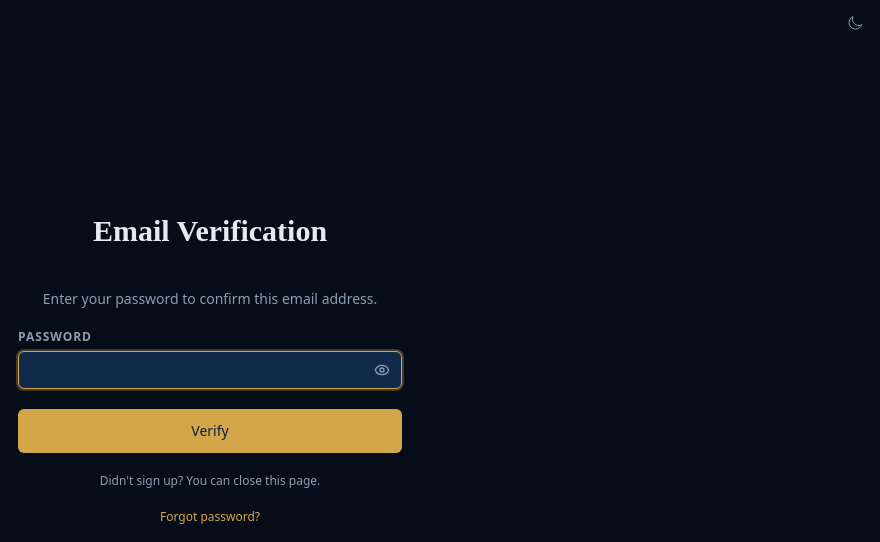
verify-email page, password confirmation › Enter submits the form
Step 1. Type "pw-pw-pw-1" into the password field labelled "Password" → (210, 370), box [18, 351, 402, 389]
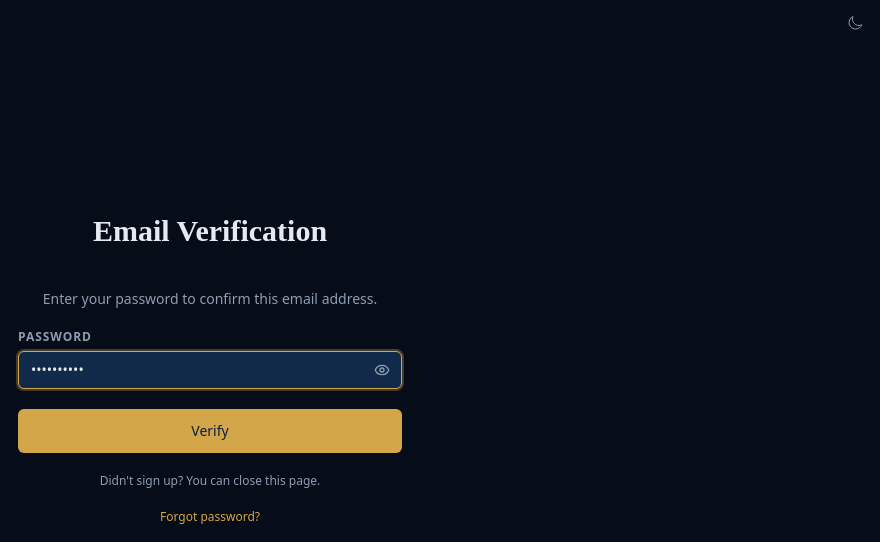
Step 2. Submit the form labelled "password", box [18, 289, 402, 525]
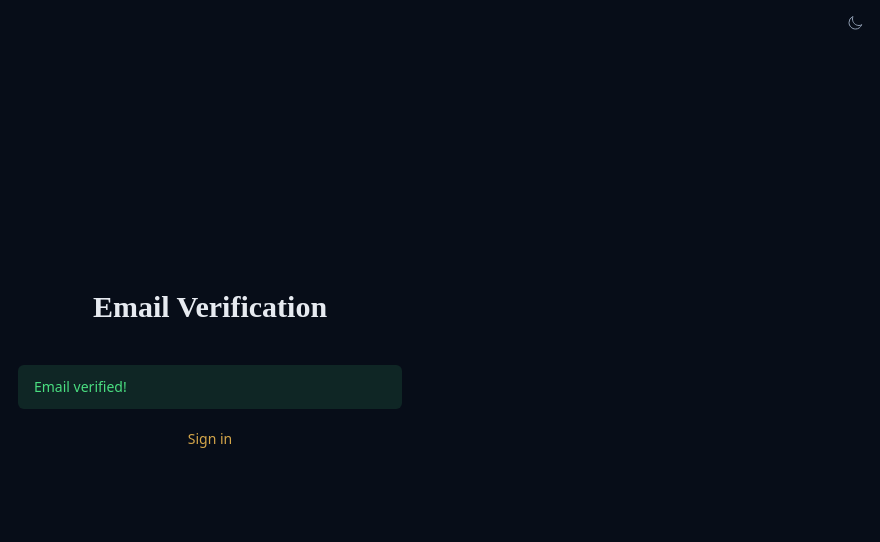
Now the text "Email verified!" is shown, box [18, 365, 402, 409]
